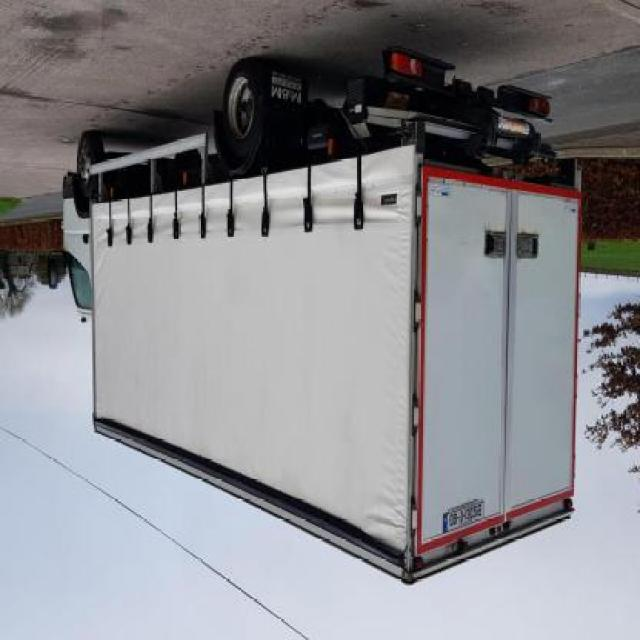truck: (53, 53, 580, 587)
